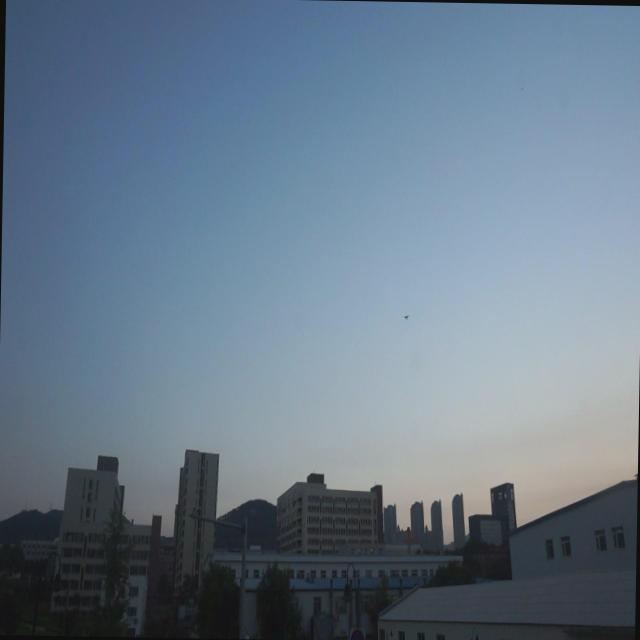drone: (402, 312, 409, 321)
